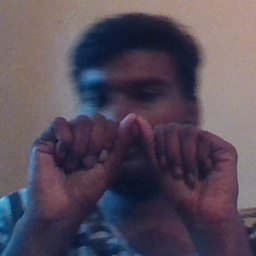A: (45, 112, 220, 213)
